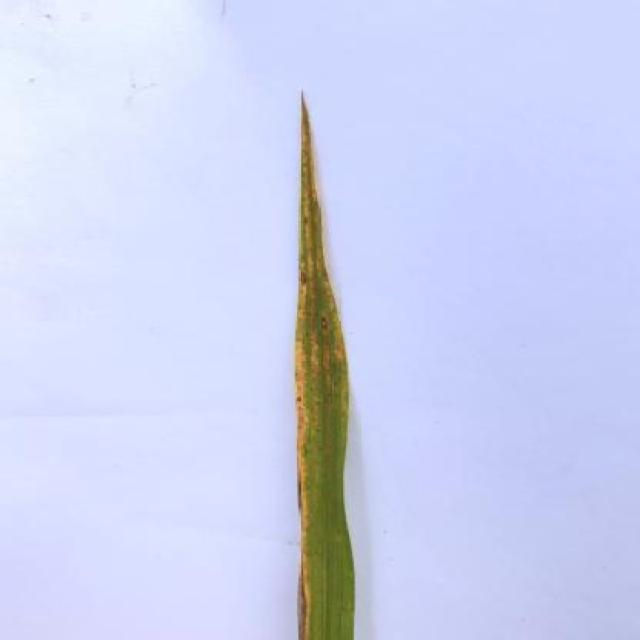Rice False Smut: (296, 95, 355, 639)
